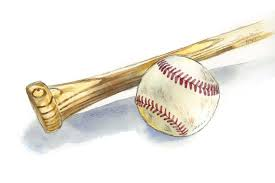baseball bat: (25, 18, 271, 133)
